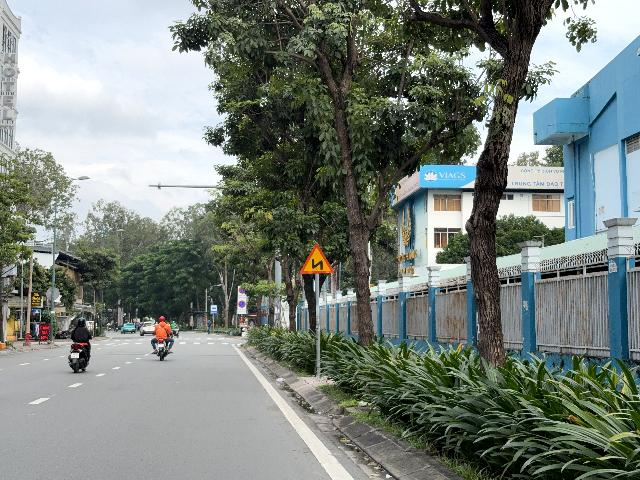nhieu-cho-ngoat-nguy-hiem-lien-tiep: (300, 243, 334, 274)
